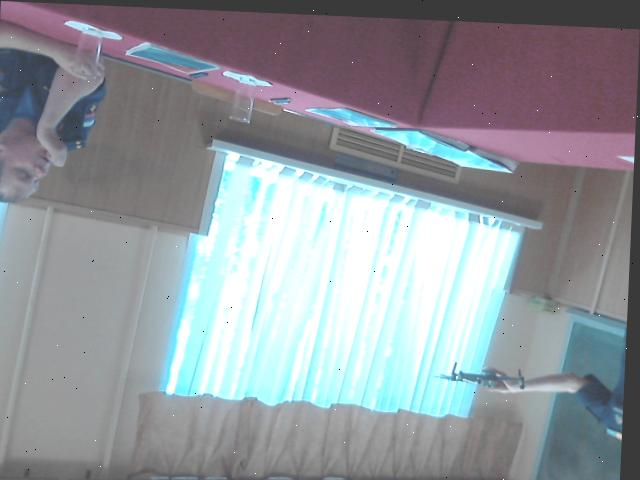drone: (432, 352, 551, 399)
